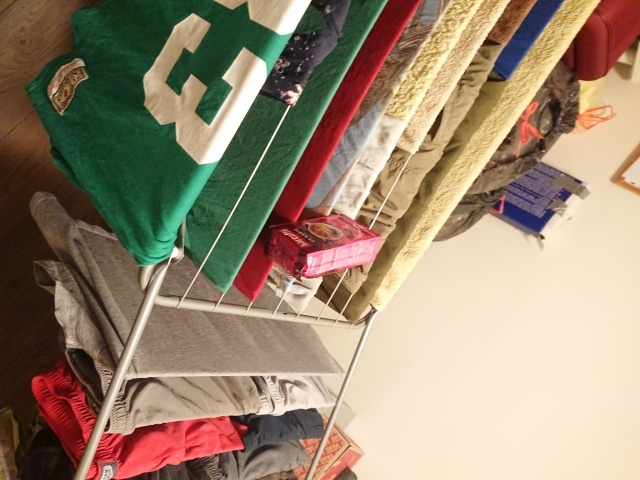Barcaffe Classic Original 225g: (263, 212, 386, 285)
